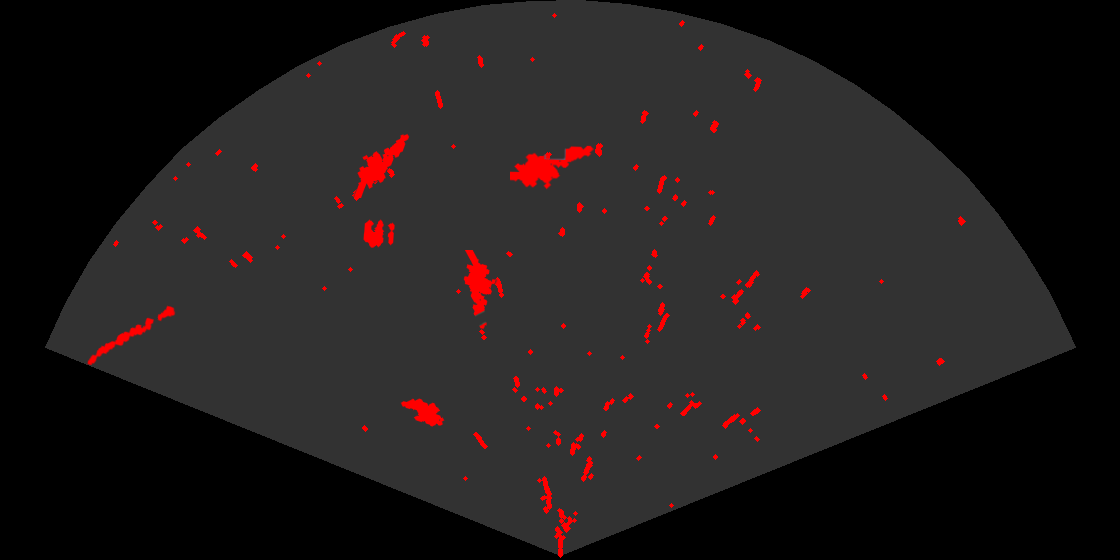AUV: (399, 397, 446, 428)
ball: (362, 218, 396, 249)
chain: (86, 304, 177, 367)
frogman: (510, 144, 594, 191), (352, 133, 411, 198), (462, 250, 498, 330)
